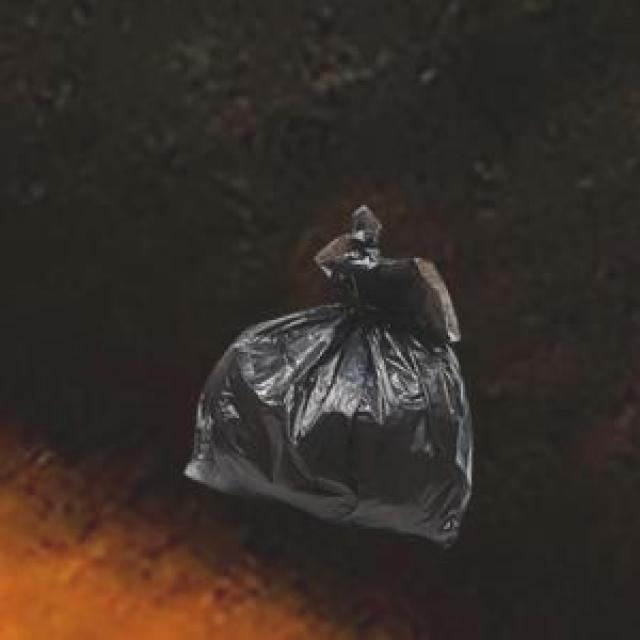Trashbag: (181, 199, 491, 553)
